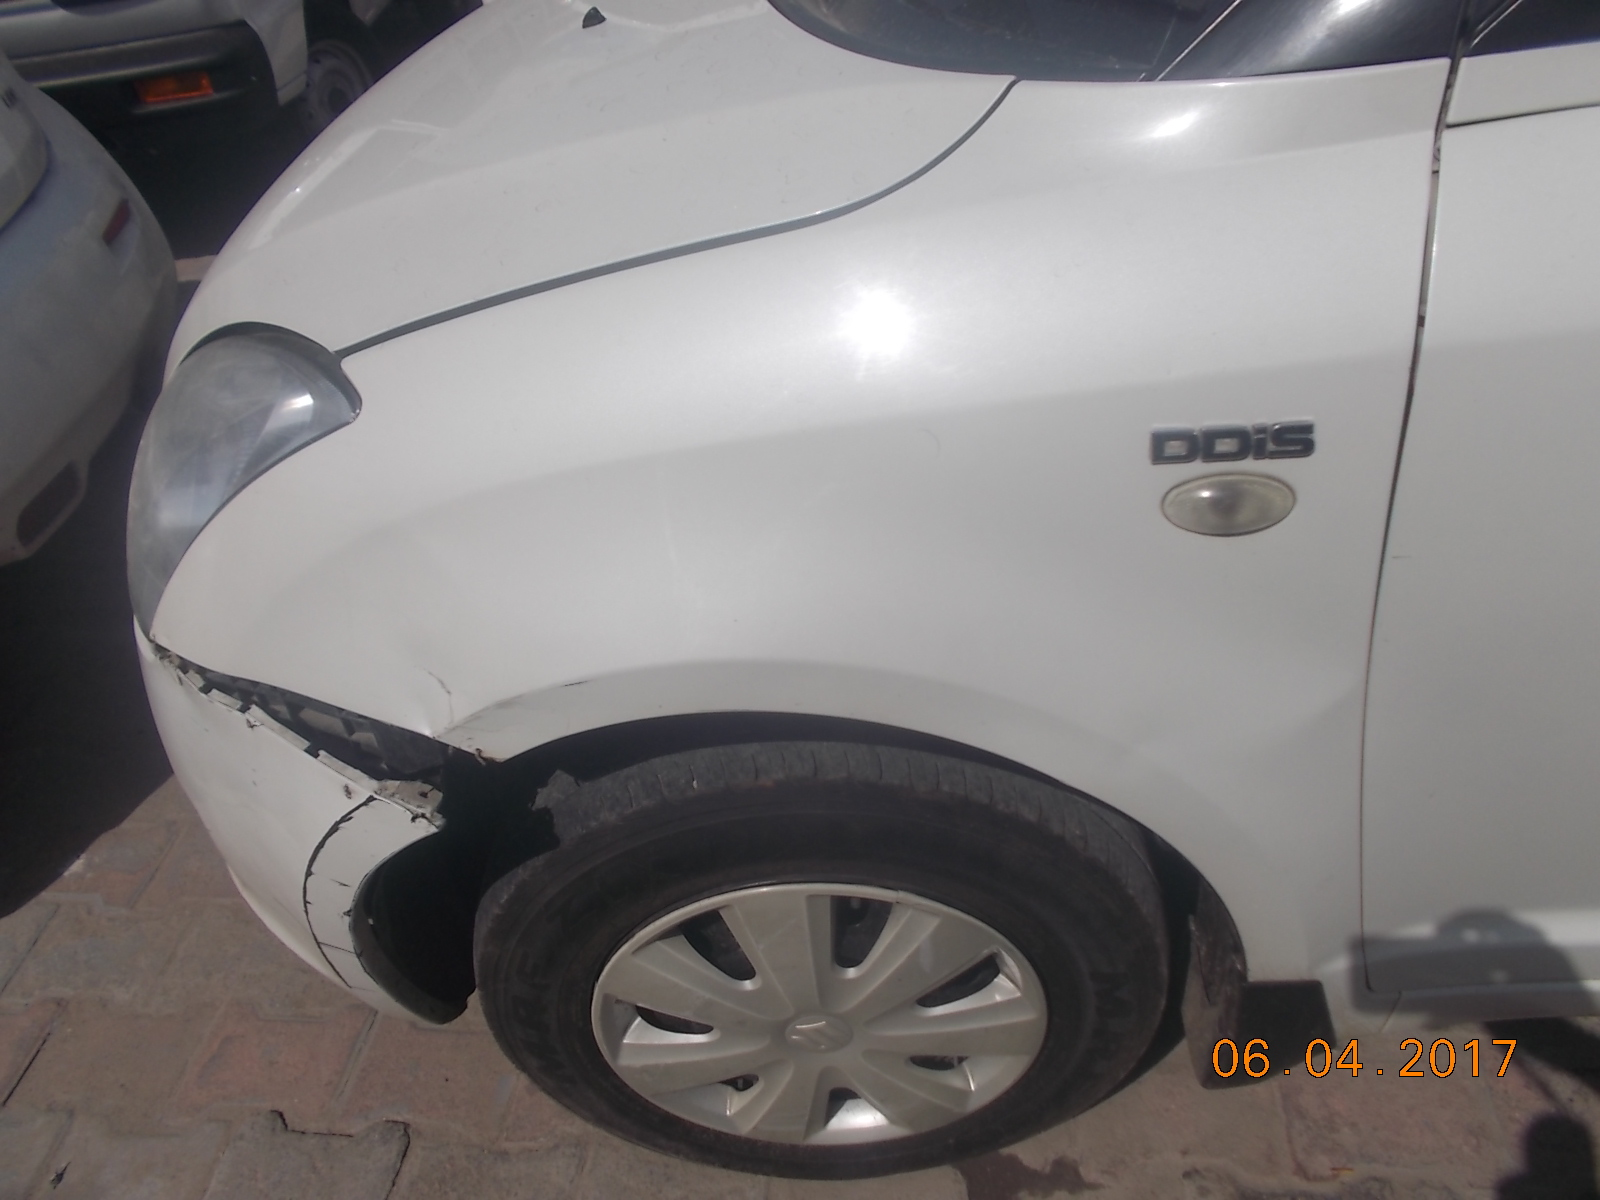Dislocation: (207, 645, 488, 821)
